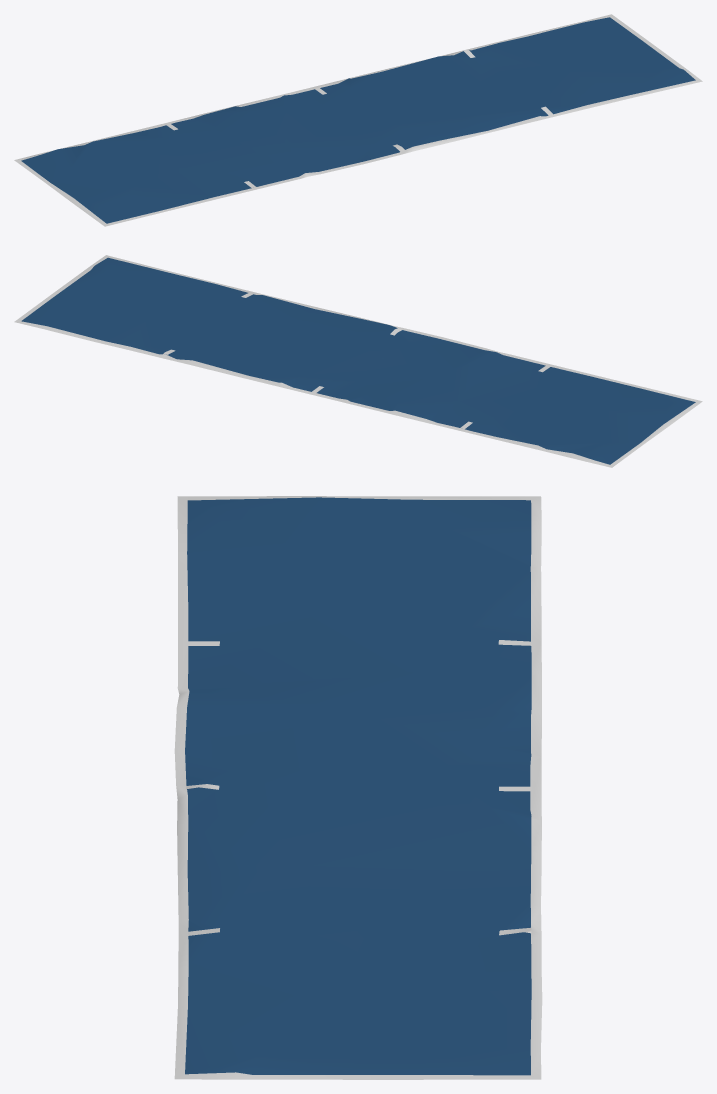
Rendered from SM_M_Government_Office_ClothLarge_02_ATLAS.fbx.
The picture shows the model from 3 angles, top to bottom: view 1: azimuth 30°, elevation 25°; view 2: azimuth 150°, elevation 25°; view 3: azimuth 270°, elevation 25°; orthographic projection. The views are drawn at different scales.
Visible parts, largest first — view 1: SM_M_Government_Office_ClothLarge_02_ATLAS; view 2: SM_M_Government_Office_ClothLarge_02_ATLAS; view 3: SM_M_Government_Office_ClothLarge_02_ATLAS.
Part boxes in pixels (bbox=[...]): SM_M_Government_Office_ClothLarge_02_ATLAS: bbox=[14, 14, 702, 226]; SM_M_Government_Office_ClothLarge_02_ATLAS: bbox=[14, 255, 702, 467]; SM_M_Government_Office_ClothLarge_02_ATLAS: bbox=[174, 496, 542, 1079].
Bounding box in the file's own units: 604 × 161 × 2.6.
